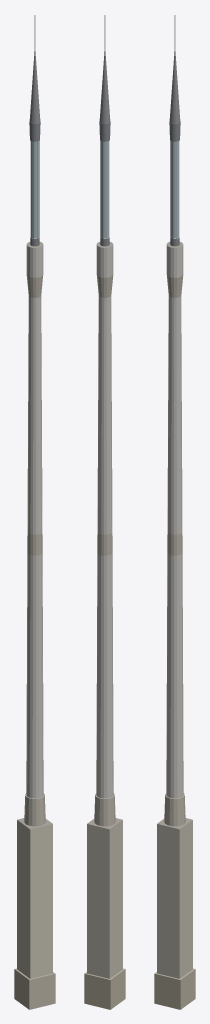
File: farola.glb
3 renders of one model, left to right at view 1: azimuth 30°, elevation 25°; view 2: azimuth 150°, elevation 25°; view 3: azimuth 330°, elevation 25°, orthographic.
Visible parts, largest first — view 1: farola-de-malaga; view 2: farola-de-malaga; view 3: farola-de-malaga.
Part boxes in pixels (x1,y1,x2,y2): farola-de-malaga: [14, 15, 55, 1009]; farola-de-malaga: [84, 15, 125, 1009]; farola-de-malaga: [154, 15, 195, 1009].
Size of the model in its own units: 0.9143 by 33 by 0.9143.
